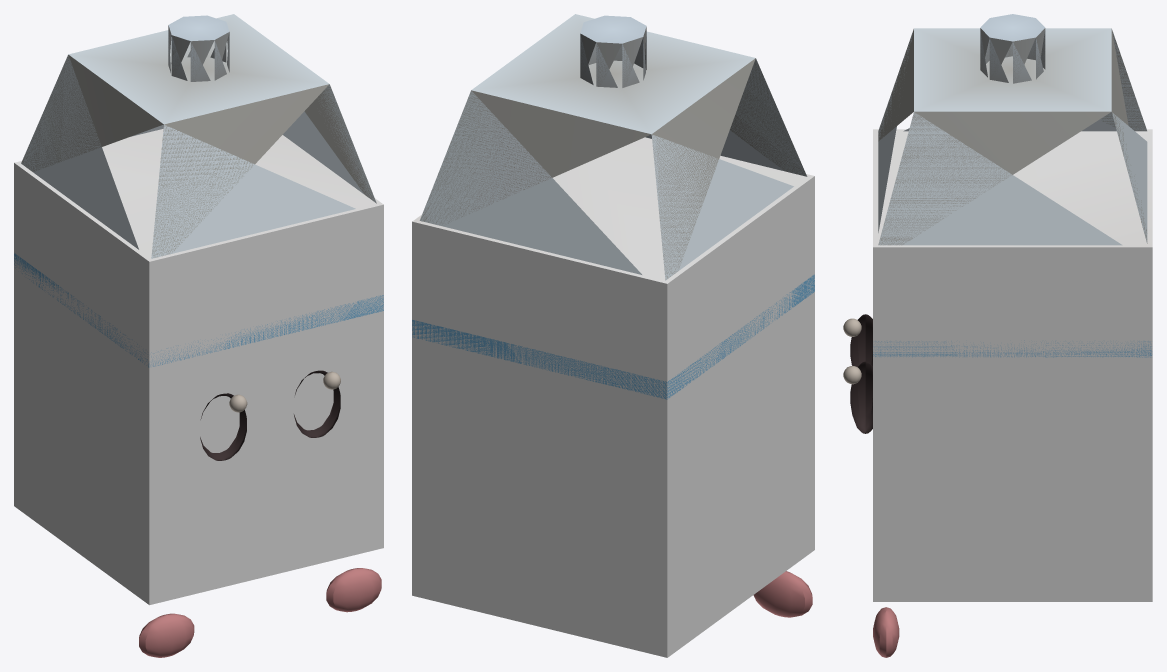
3 views of the same model, side by side, from view 1: azimuth 30°, elevation 25°; view 2: azimuth 150°, elevation 25°; view 3: azimuth 270°, elevation 25° (orthographic). The views are drawn at different scales.
Parts seen in each view (by area): view 1: pet_p86e8db59; view 2: pet_p86e8db59; view 3: pet_p86e8db59.
Part boxes in pixels (bbox=[...]): pet_p86e8db59: bbox=[14, 14, 383, 657]; pet_p86e8db59: bbox=[412, 14, 814, 657]; pet_p86e8db59: bbox=[843, 14, 1152, 657].
Size of the model in its own units: 0.3109 by 0.6852 by 0.3318.
